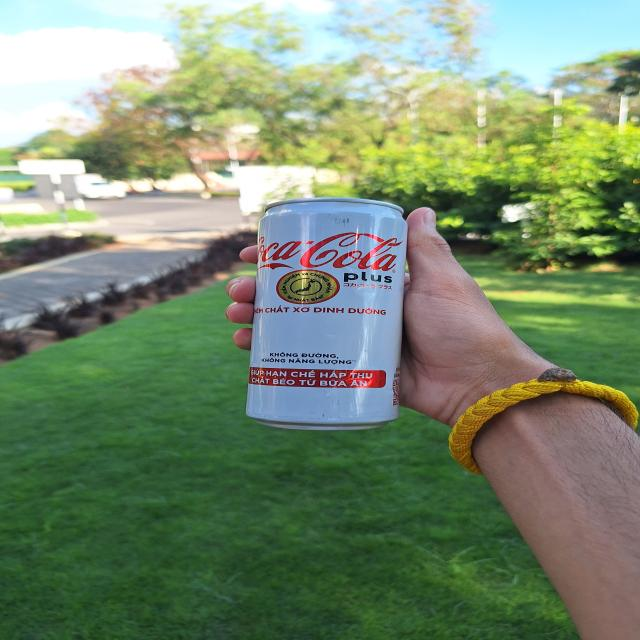Coca Cola Plus: (245, 198, 408, 429)
